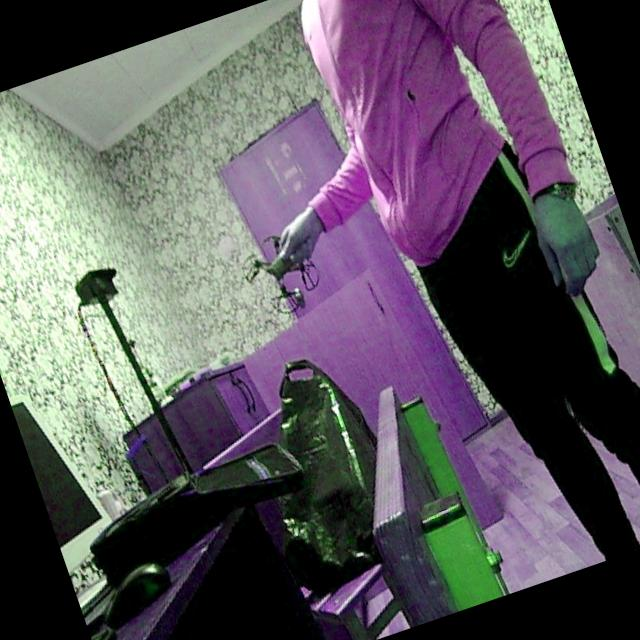drone: (228, 217, 339, 327)
